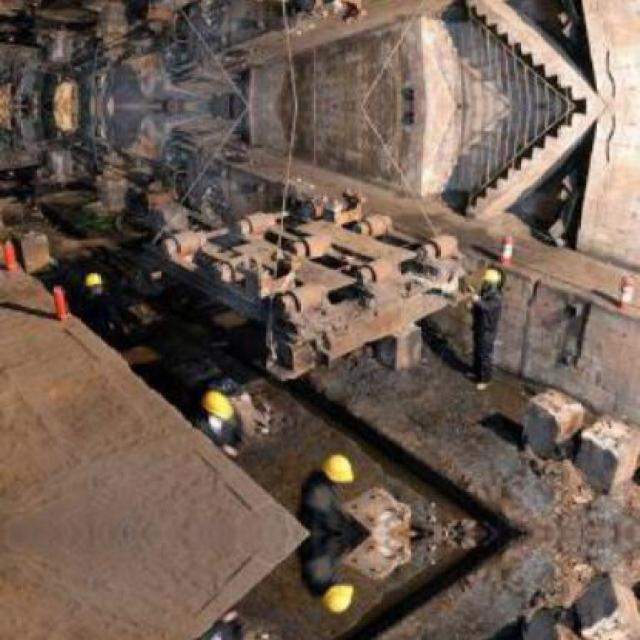helmet: (322, 450, 361, 489), (322, 578, 361, 616), (205, 385, 232, 428), (479, 263, 503, 291), (83, 268, 105, 294)
